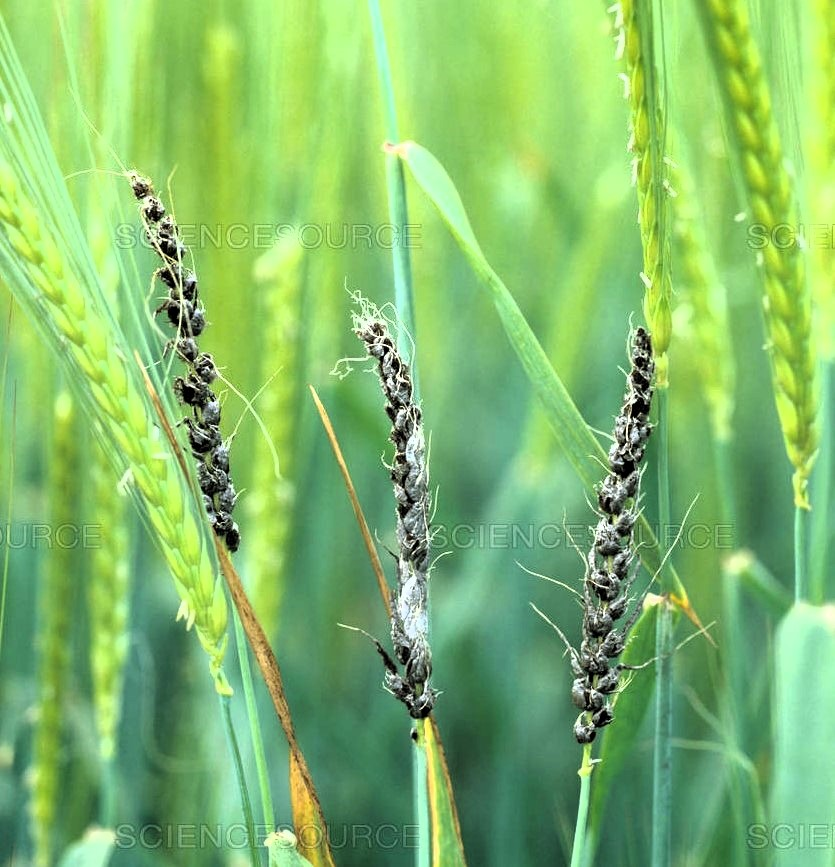Wheat Loose Smut: (128, 167, 248, 534), (568, 336, 667, 727)
